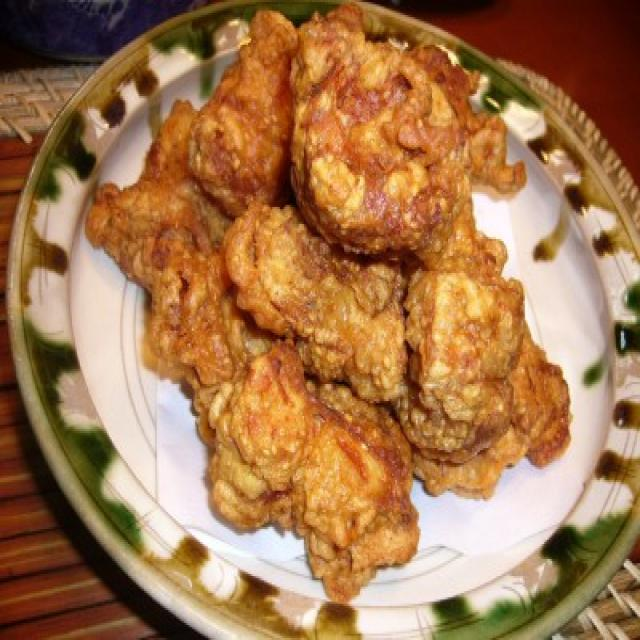鸡肉料理 含炸鸡: (112, 2, 555, 557)
